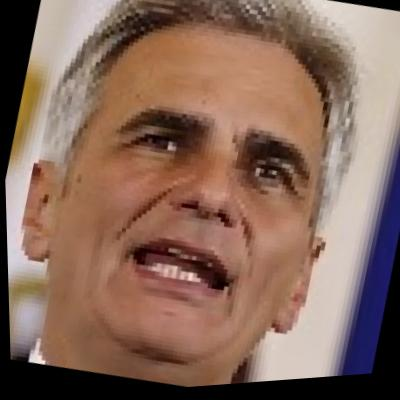angry: (41, 0, 349, 390)
